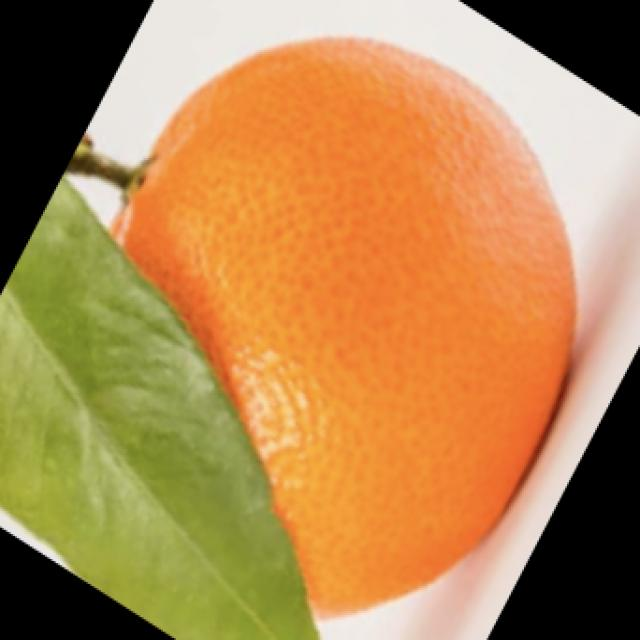fresh: (5, 34, 588, 620)
